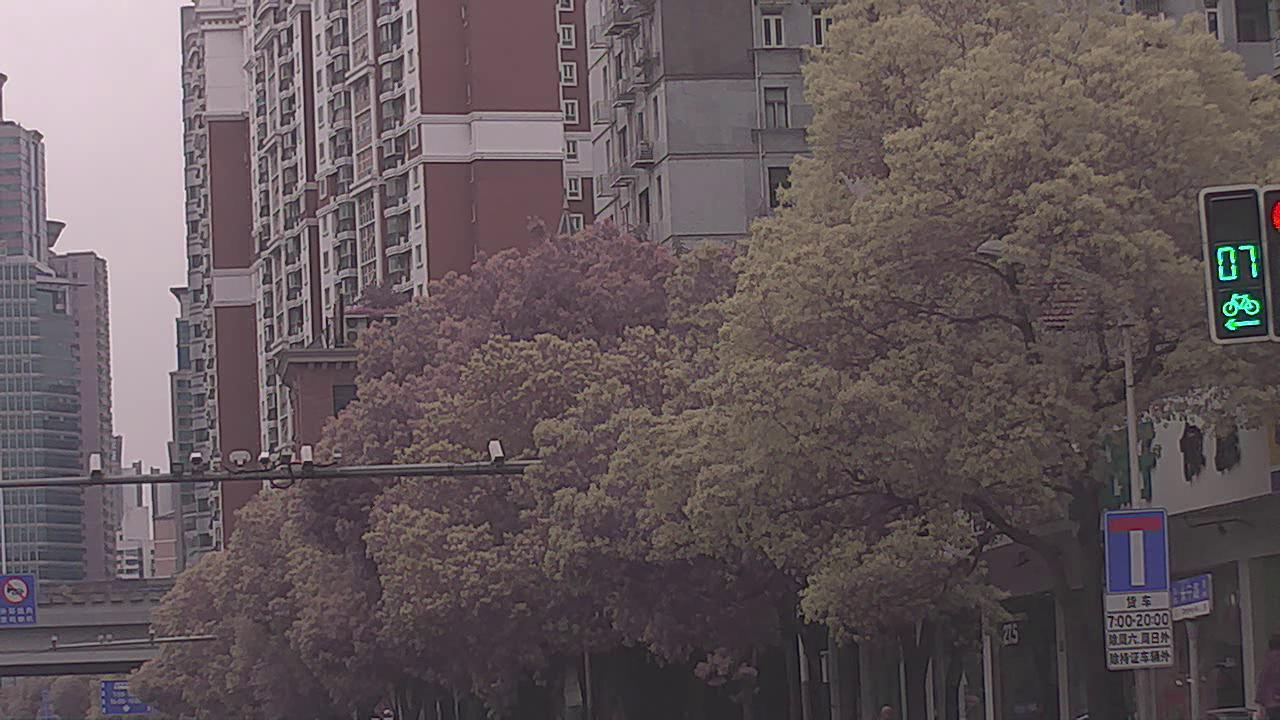traffic_light: (1203, 189, 1268, 345)
